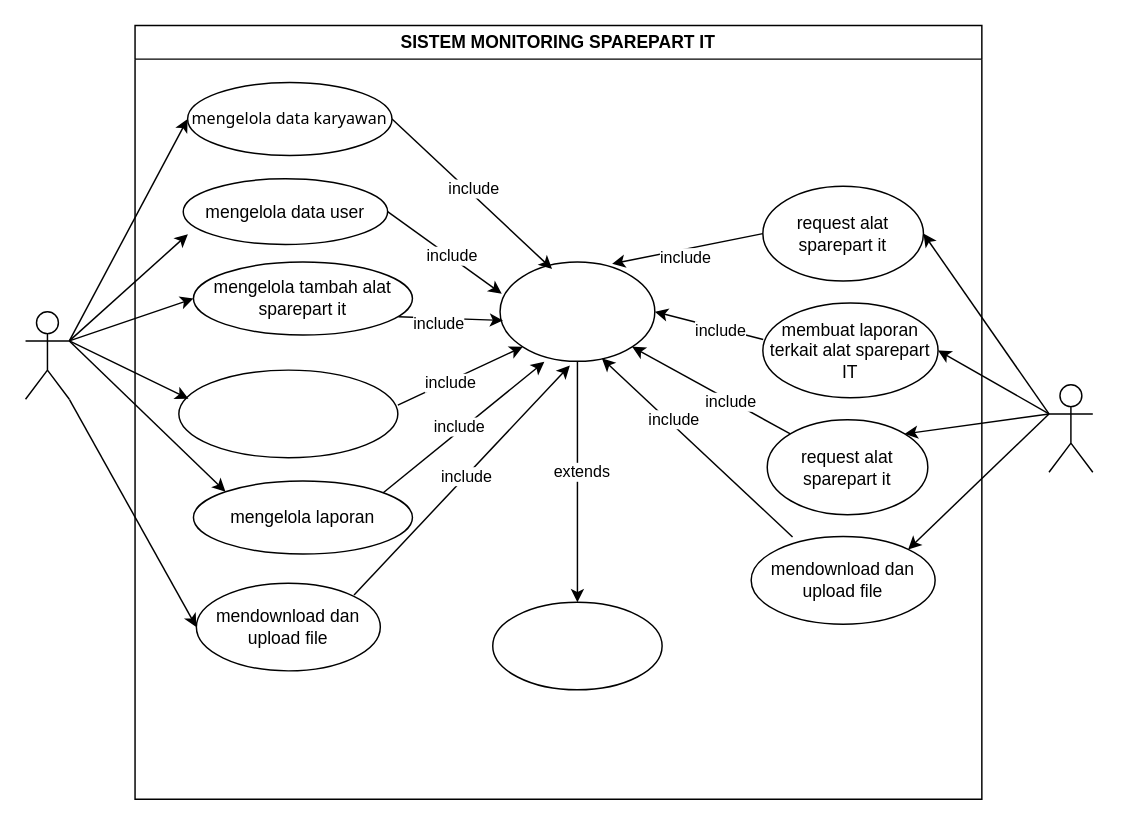
Image size: 1134x825. Some labels were removed from this diagram. Here are the shapes that lost their labels. From the top down, the centre of each, then its label:
At (x=577, y=311): "login".
At (x=46, y=354): "Actor".
At (x=287, y=413): "mengelola daftar ketersediaan sparepart it".
At (x=1070, y=427): "K ar yawan".
At (x=576, y=645): "logout".
